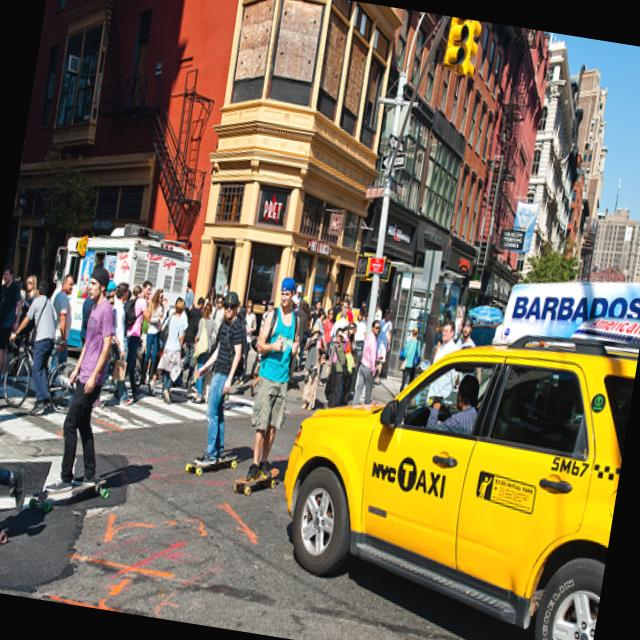Vehicle: (257, 232, 640, 640), (43, 211, 196, 367)
